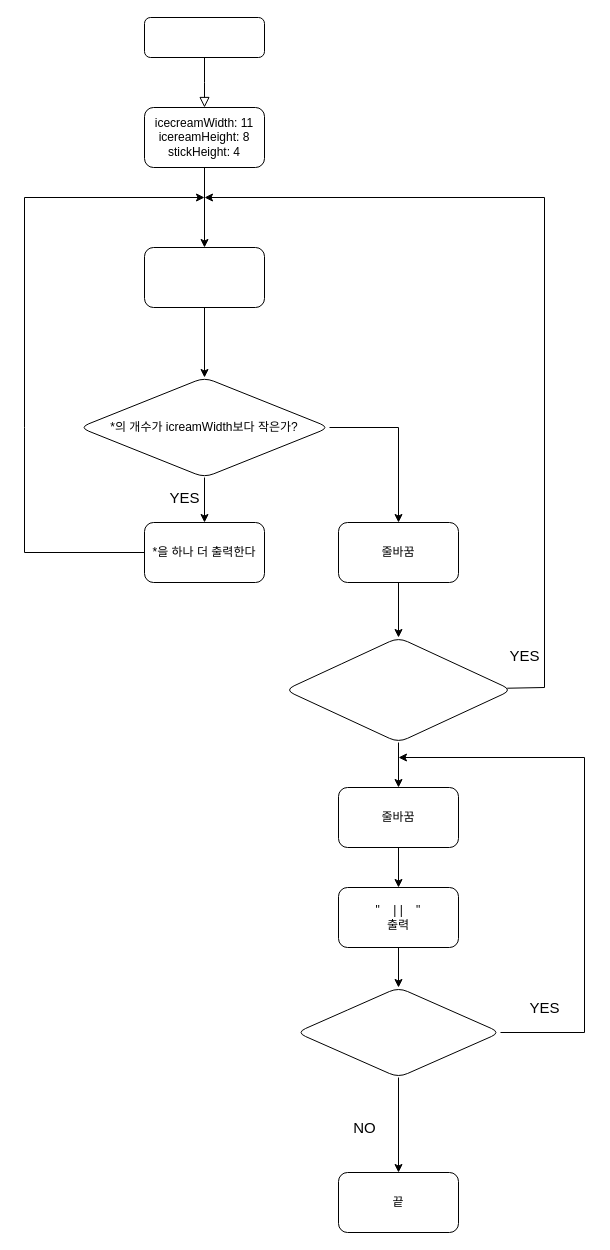
Image size: 610x1250. Some labels were removed from this diagram. The shapes that lost their labels are listed below. From the top down, each one's centre as x and y in pixels, then its label:
pixel 204 37: 시작
pixel 204 277: "*", terminate: "" 출력
pixel 398 689: 줄의 개수가 icreamHeight보다 작은가?
pixel 398 1032: stickHeight보다 줄이 작은가?
